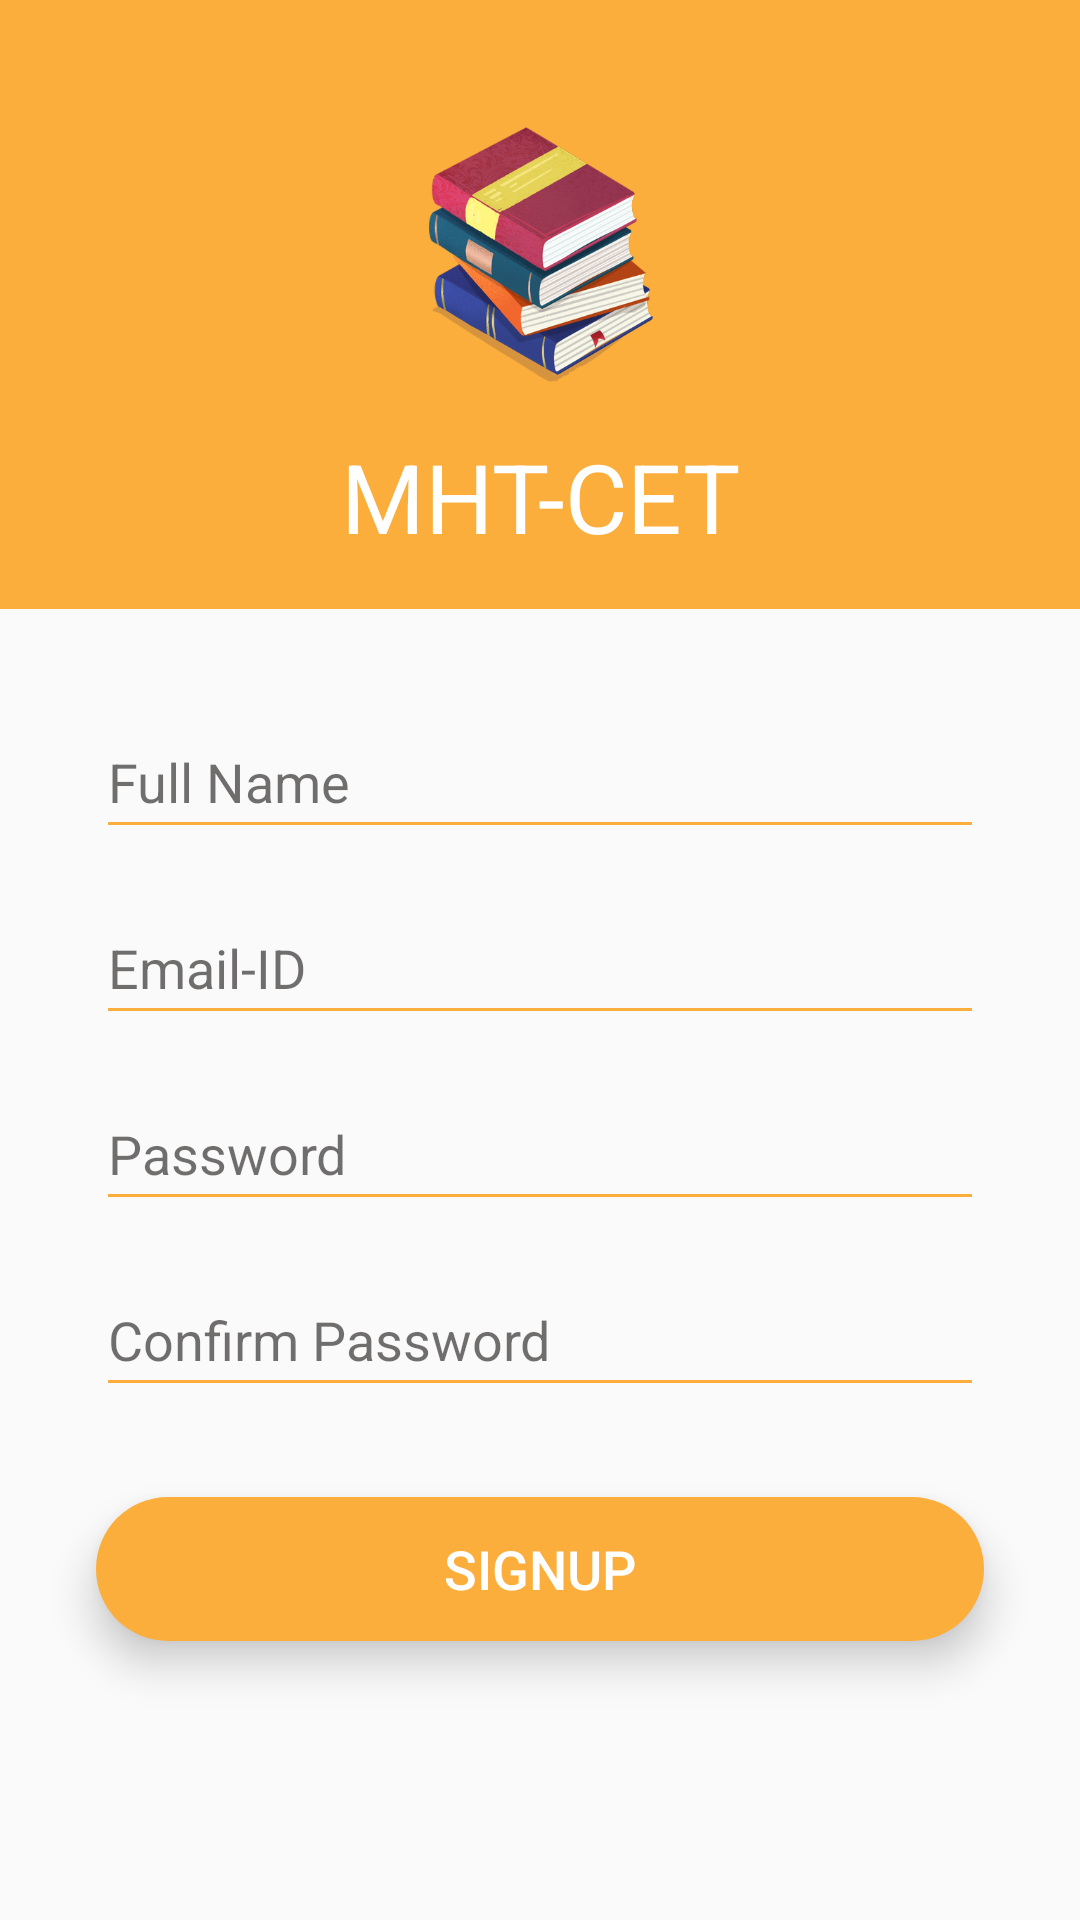

Named icons in this screenshot (1080w x 1920h) and their centers, [x,y]:
stack of books: [541,254]
